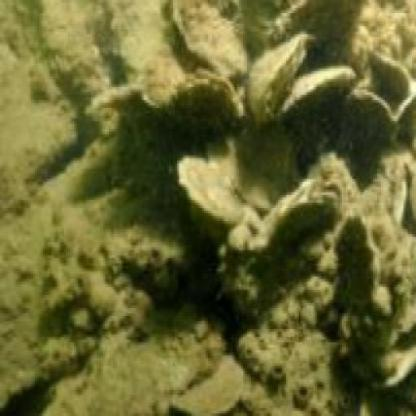Oyster- Indeterminate: (163, 69, 240, 133)
Oyster-Closed: (174, 3, 245, 80), (253, 34, 310, 127), (281, 67, 358, 125), (177, 156, 240, 223)
Oyster-Open: (333, 219, 408, 373), (392, 161, 416, 231)
